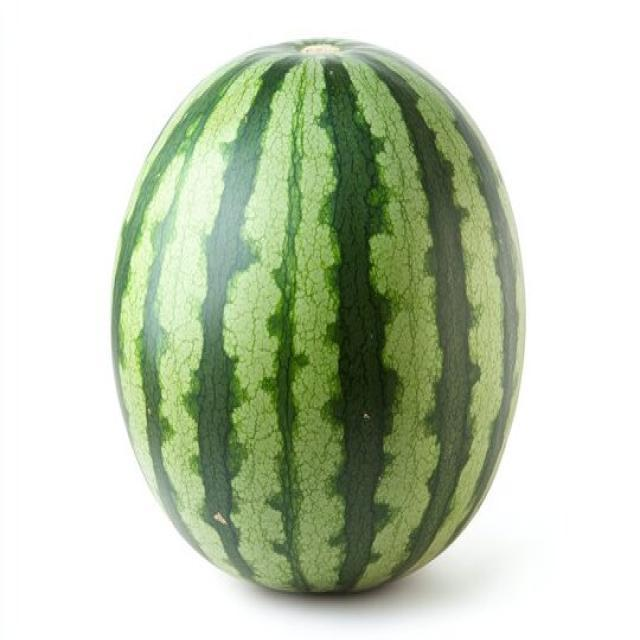Watermelon: (112, 39, 534, 589)
